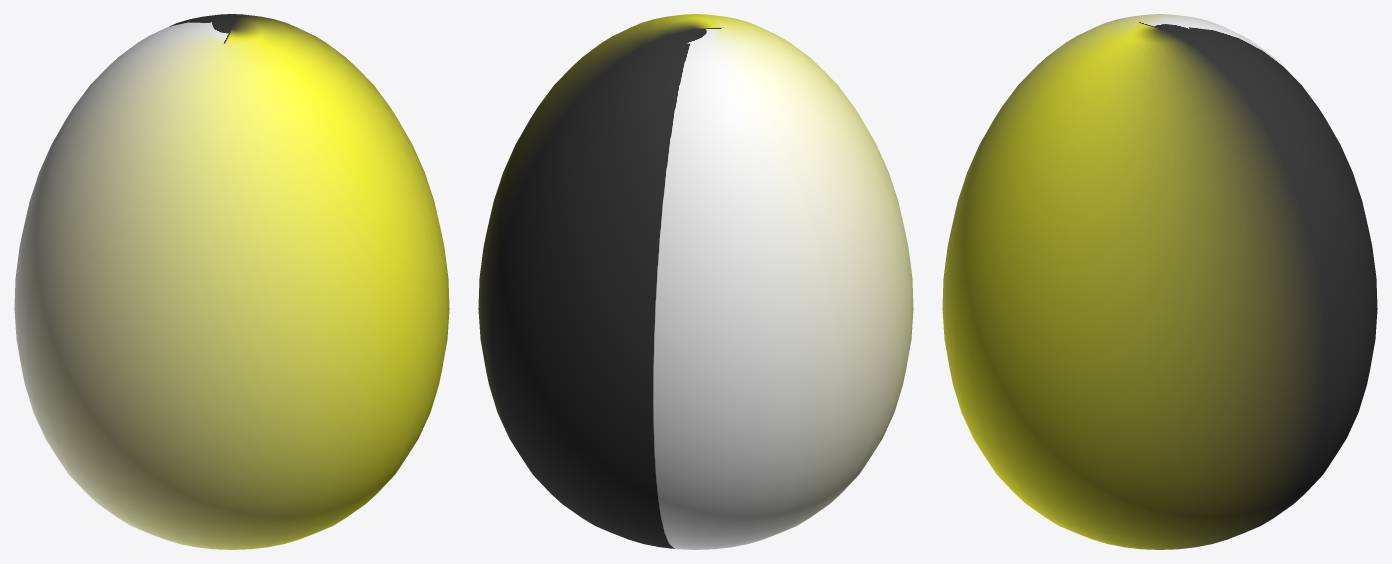
File: penguinEgg.fbx
3 renders of one model, left to right at view 1: azimuth 30°, elevation 25°; view 2: azimuth 150°, elevation 25°; view 3: azimuth 270°, elevation 25°, orthographic.
Parts seen in each view (by area): view 1: BezierCircle; view 2: BezierCircle; view 3: BezierCircle.
Part boxes in pixels (bbox=[...]): BezierCircle: bbox=[14, 14, 449, 549]; BezierCircle: bbox=[478, 14, 913, 549]; BezierCircle: bbox=[942, 14, 1377, 549].
Bounding box in the file's own units: 158 × 200 × 158.
